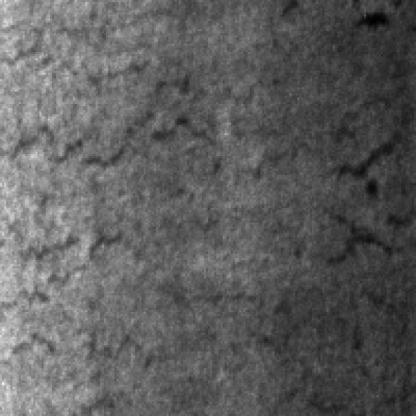crazing: (260, 100, 414, 410), (4, 2, 216, 198), (6, 227, 183, 414)
